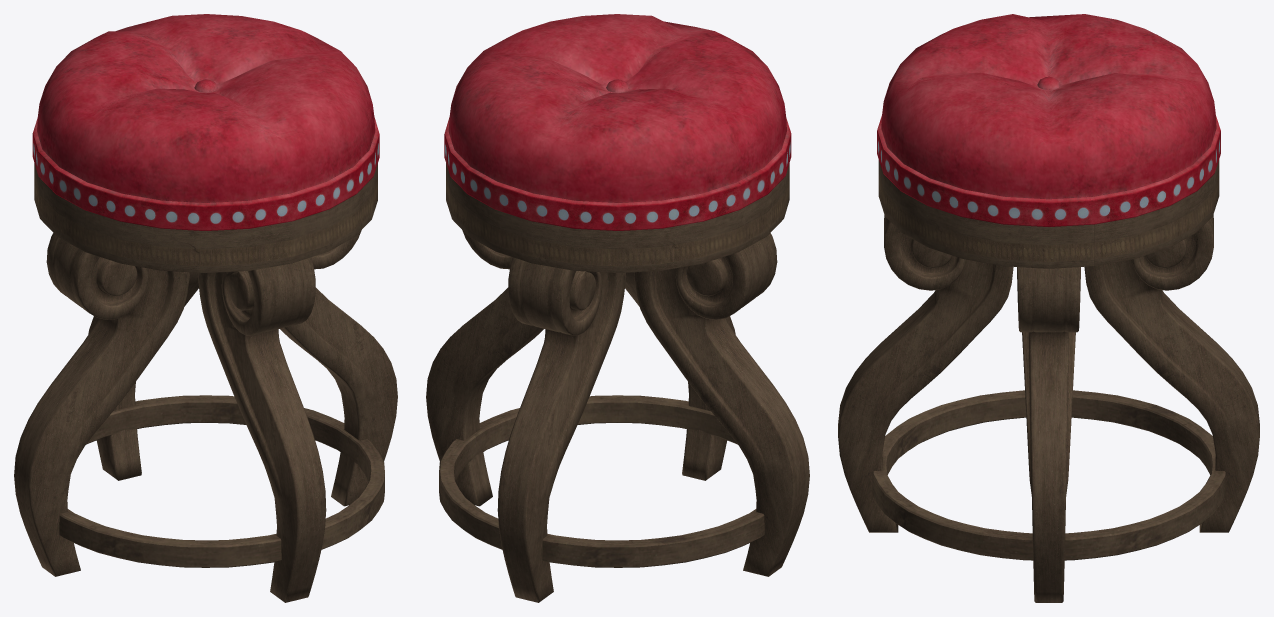
The model's file is obj_classic_stool_2c5139.glb.
3 renders of one model, left to right at view 1: azimuth 30°, elevation 25°; view 2: azimuth 150°, elevation 25°; view 3: azimuth 270°, elevation 25°, orthographic.
Parts seen in each view (by area): view 1: obj_classic_stool_2c5139; view 2: obj_classic_stool_2c5139; view 3: obj_classic_stool_2c5139.
Part boxes in pixels (x1,y1,x2,y2): obj_classic_stool_2c5139: (14,14,397,602); obj_classic_stool_2c5139: (426,14,809,602); obj_classic_stool_2c5139: (838,14,1259,602).
Bounding box in the file's own units: 0.3724 × 0.45 × 0.3724.
Materials: 1 (1 with a texture image).
